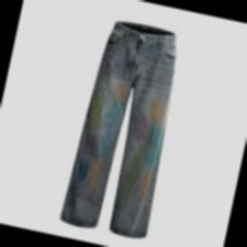earth: (138, 173, 153, 201), (149, 100, 168, 121), (87, 164, 101, 187), (114, 84, 128, 98)
